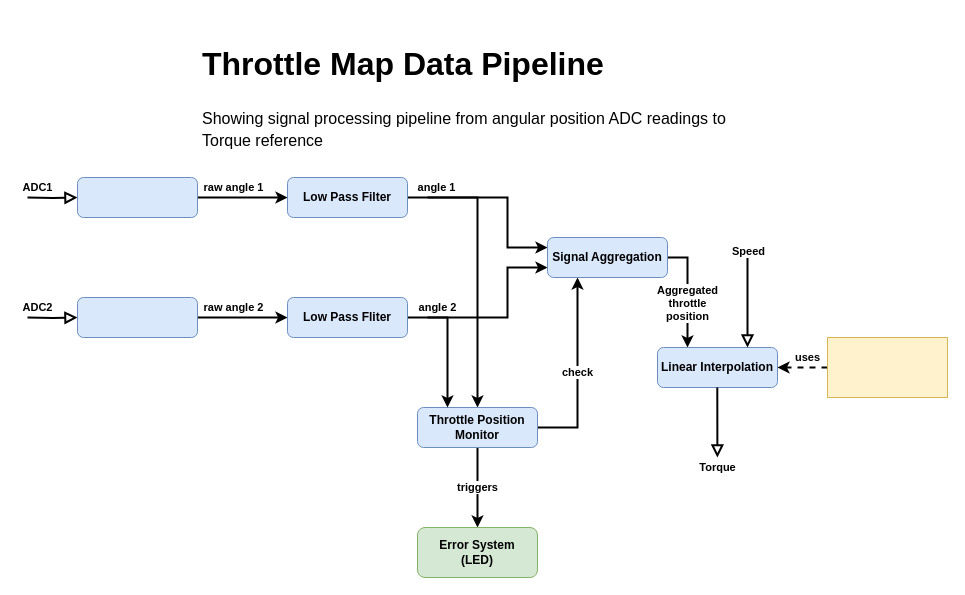
Some shapes in this 965 by 595 pixel diagram are drawn without their labels. The shapes that lost their labels are listed below. From the top down, each one's centre as x and y in pixels, then its label:
At point (137, 197): "Signal relation 1".
At point (137, 317): "Signal Relation 2".
At point (887, 367): "Throttle Map Table".
